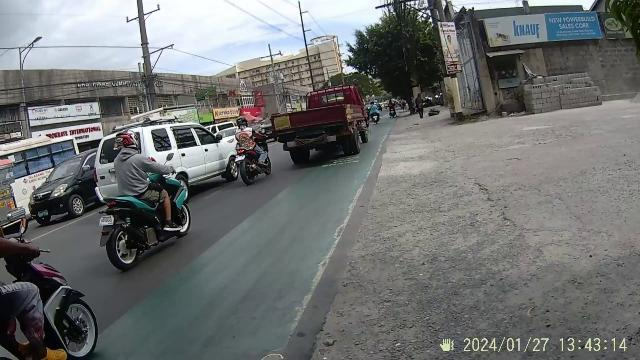cracked_pavement: (506, 175, 588, 229)
utility_post: (126, 1, 164, 86), (444, 23, 468, 124)
